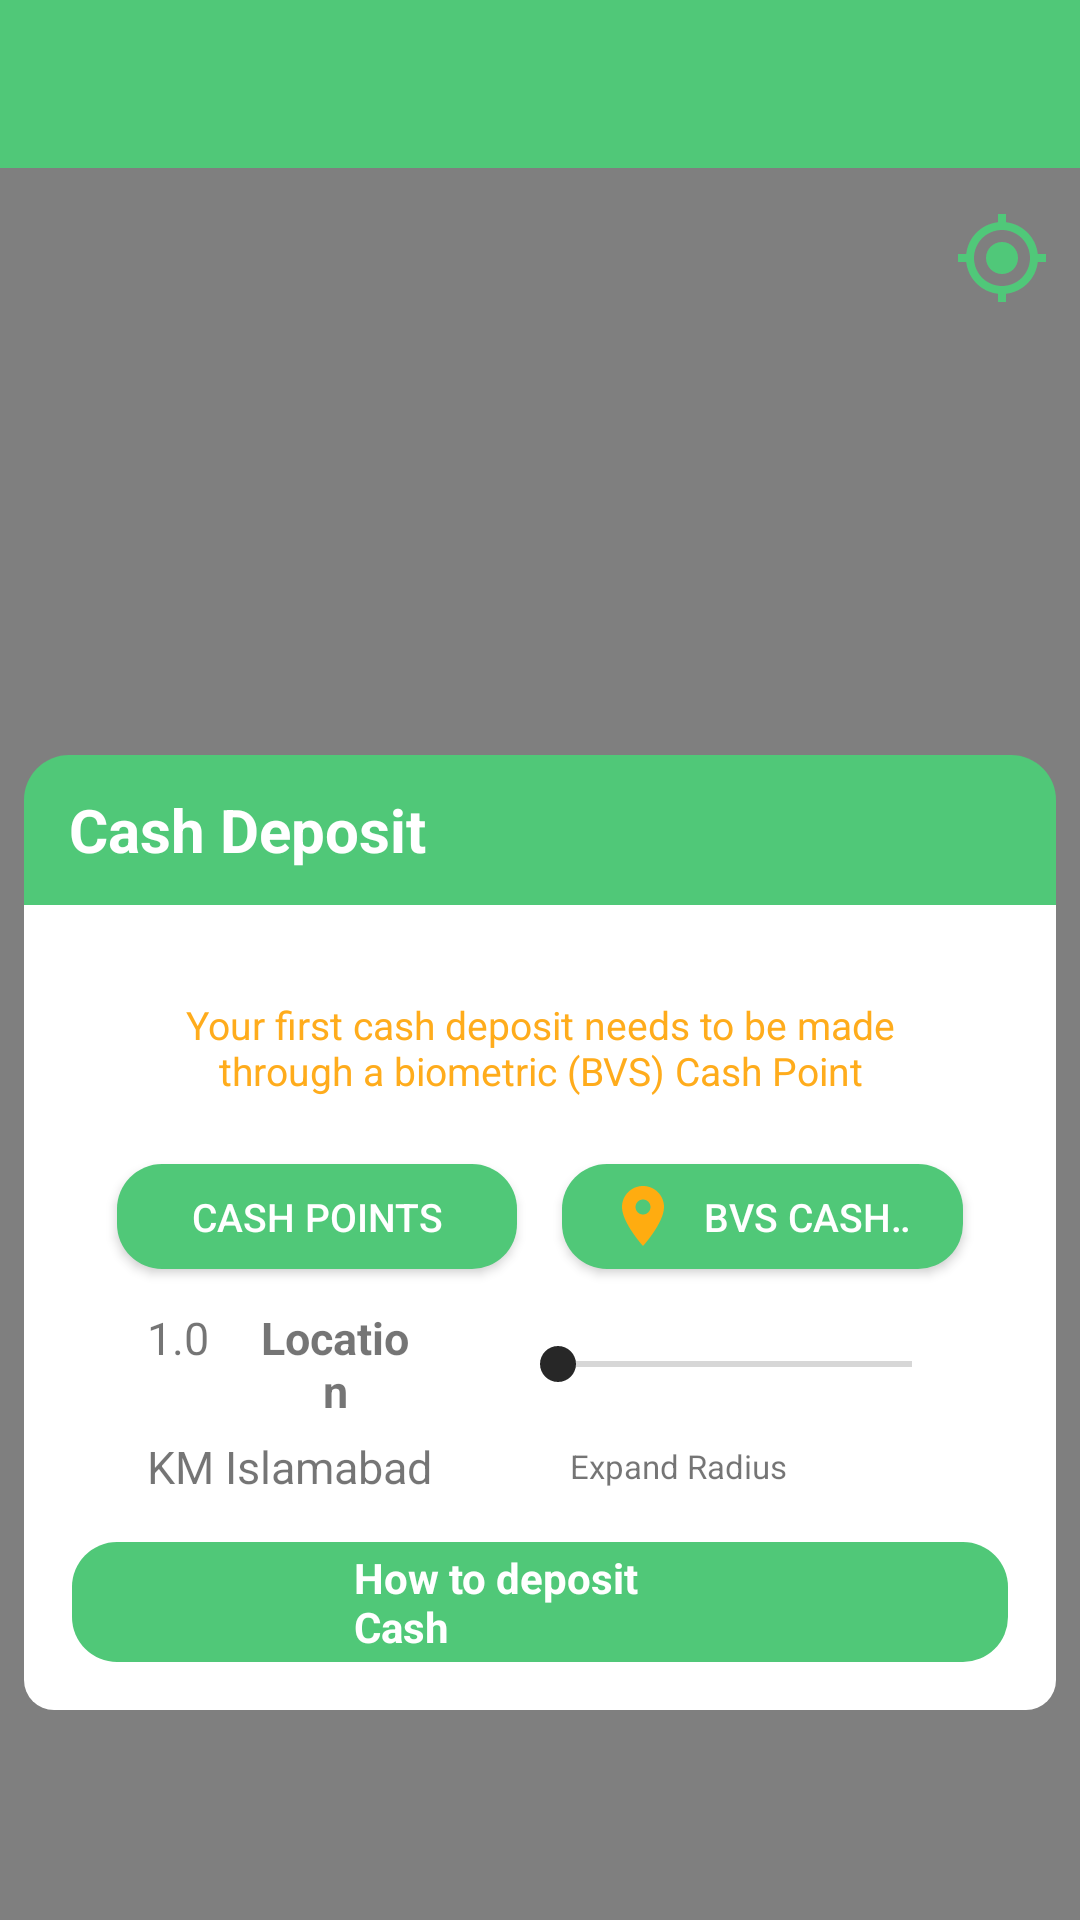

Icon bounding boxes for this 1080x1920 phone screenshot, format (x1=x1, y1=y1, x2=x2, y2=y2):
cash points current location: (x1=958, y1=214, x2=1046, y2=302)
